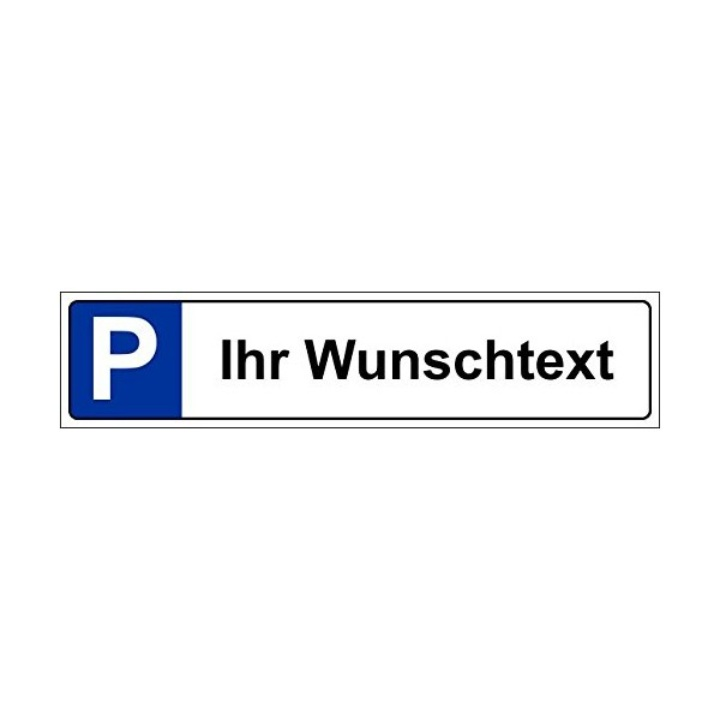parking: (84, 312, 161, 406)
